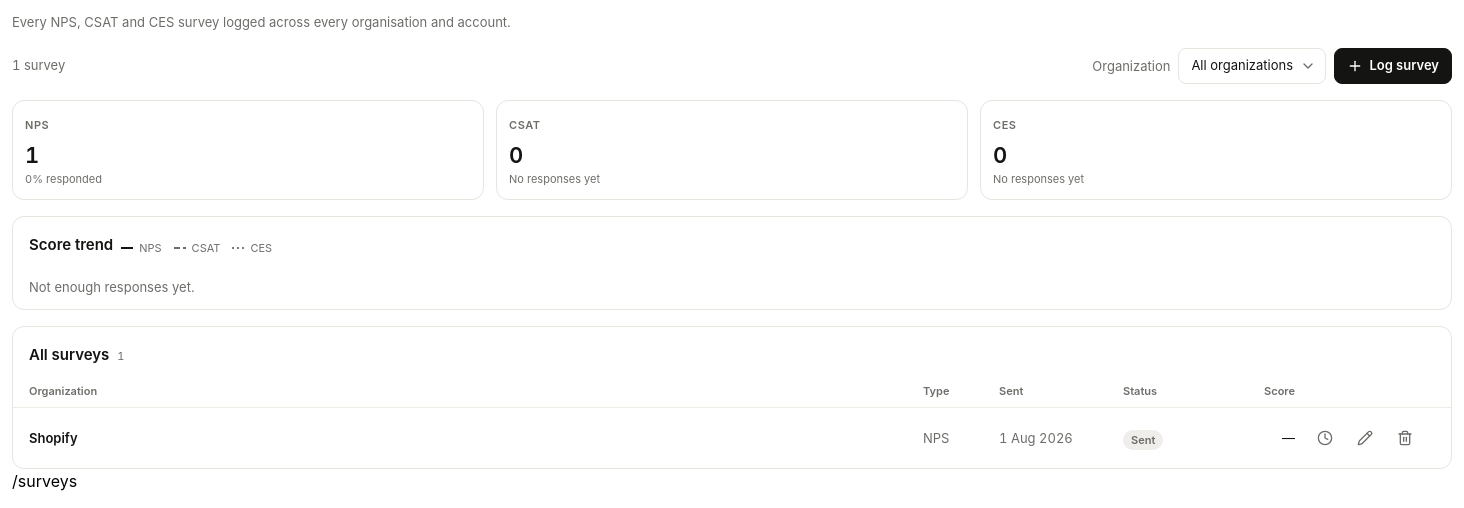
Test: SurveysPage (/surveys) › marking a sent survey Expired PATCHes its status without a confirm step
Expected: the link "Shopify" is shown, [29,430,78,446]
Step 1. Click the button named "Mark expired: Shopify" → (1325, 438), box [1307,420,1343,456]
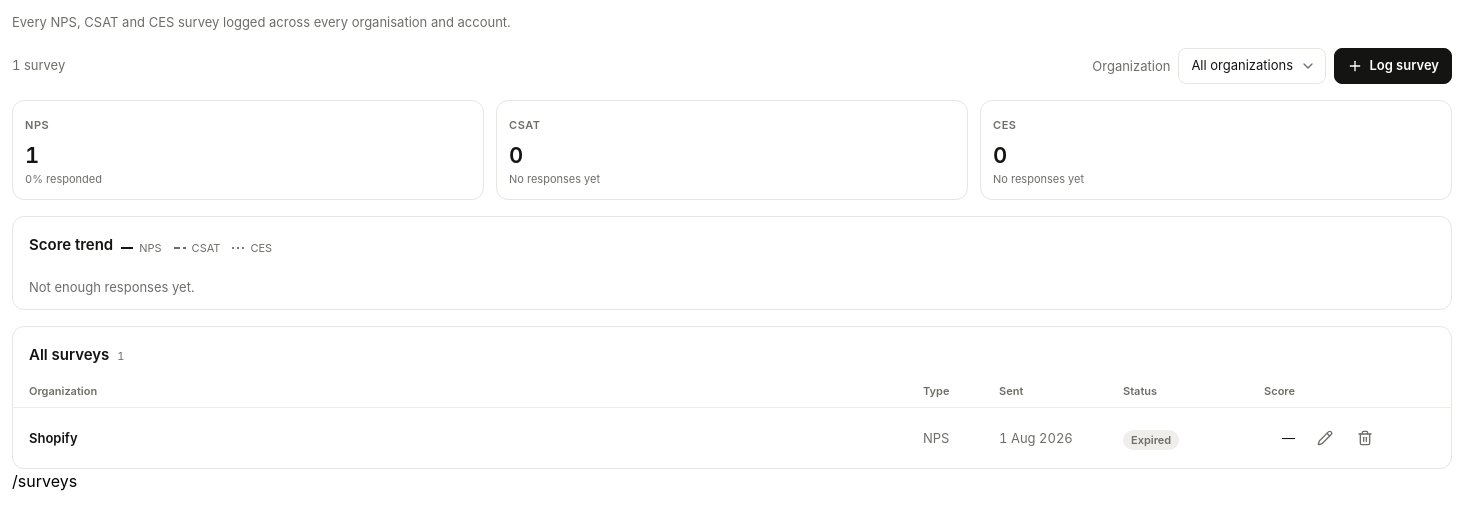
Now the text "Expired" is shown, box [1123,430,1179,450]
